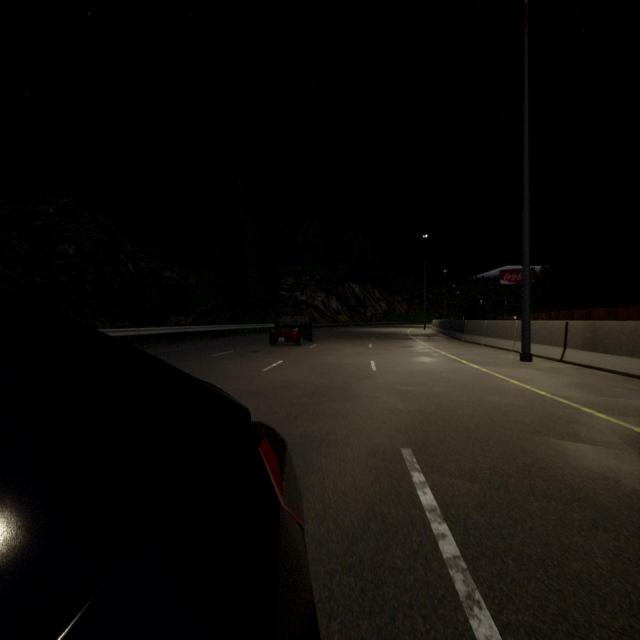Vehicle: (0, 295, 318, 640), (269, 311, 314, 346)
